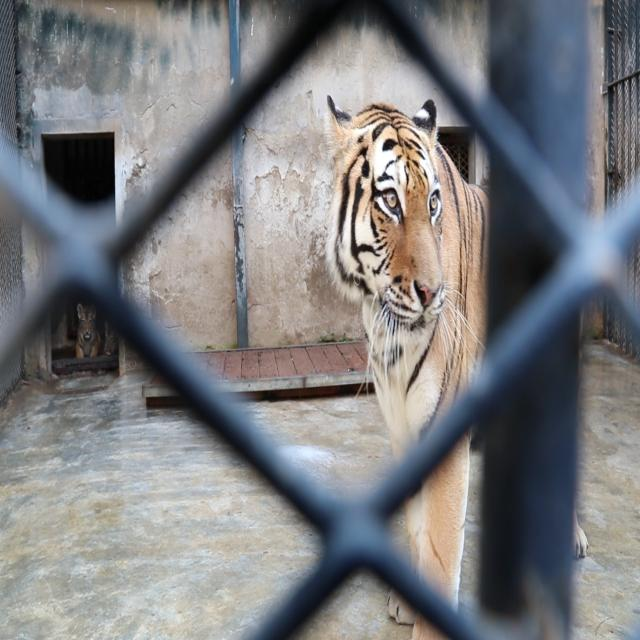Tiger: (311, 69, 608, 639)
